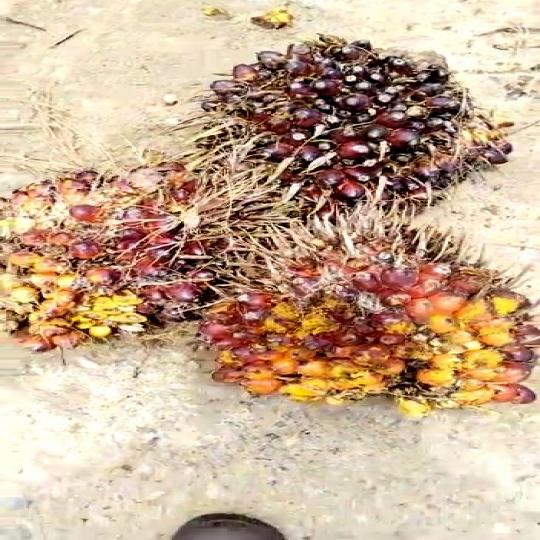masak: (200, 220, 540, 419), (182, 29, 515, 212), (0, 157, 247, 342)
